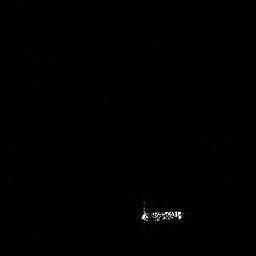ship: (136, 209, 190, 227)
